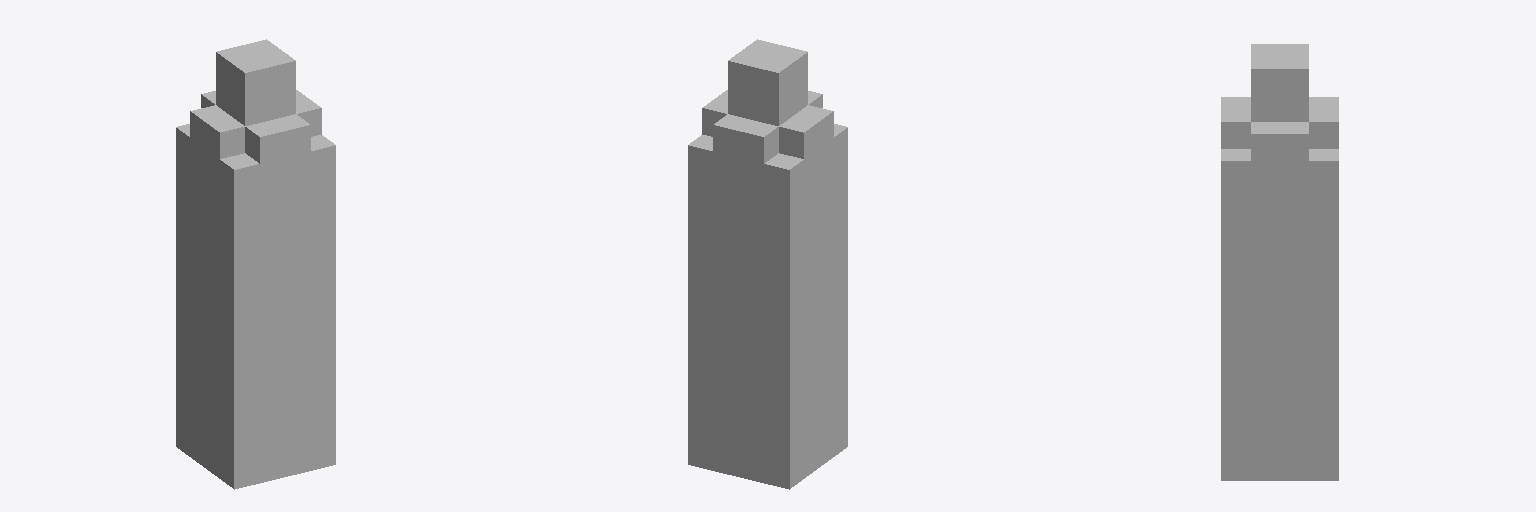
Rendered from TermoStanley.obj.
3 renders of one model, left to right at view 1: azimuth 30°, elevation 25°; view 2: azimuth 150°, elevation 25°; view 3: azimuth 270°, elevation 25°, orthographic.
Parts seen in each view (by area): view 1: Cube.013_Cube.015; view 2: Cube.013_Cube.015; view 3: Cube.013_Cube.015.
Boxes of the visible parts, x1,y1,x2,y2 form: Cube.013_Cube.015: [176, 39, 335, 489]; Cube.013_Cube.015: [688, 39, 847, 489]; Cube.013_Cube.015: [1221, 44, 1338, 480].
Size of the model in its own units: 0.25 by 0.9375 by 0.25.